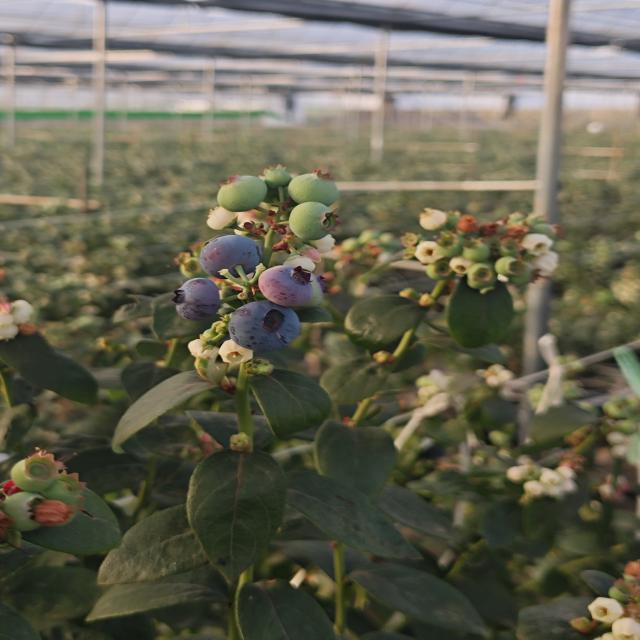ripe: (225, 301, 308, 356), (194, 232, 268, 282), (163, 278, 240, 326), (254, 264, 328, 306)
